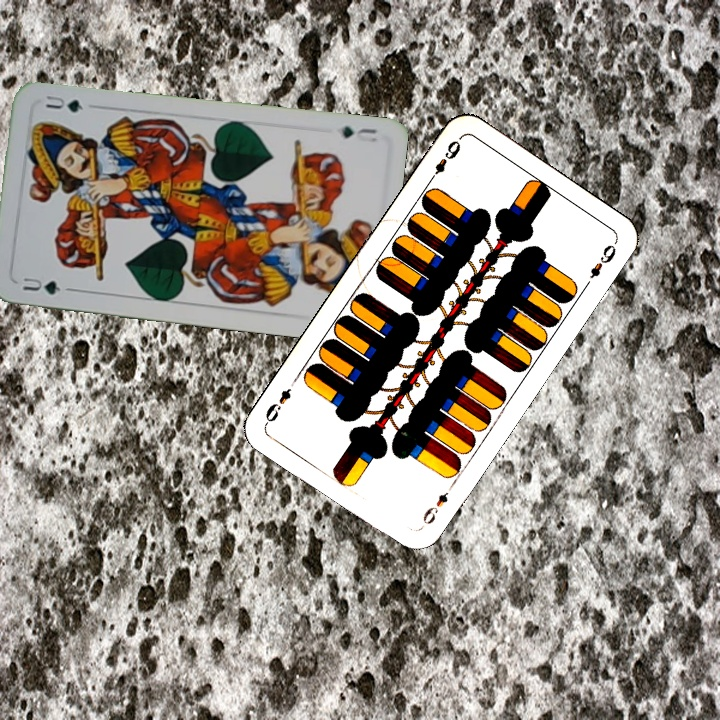E9: (424, 136, 464, 186), (417, 487, 451, 531)
GU: (19, 273, 63, 297), (337, 122, 380, 145)
